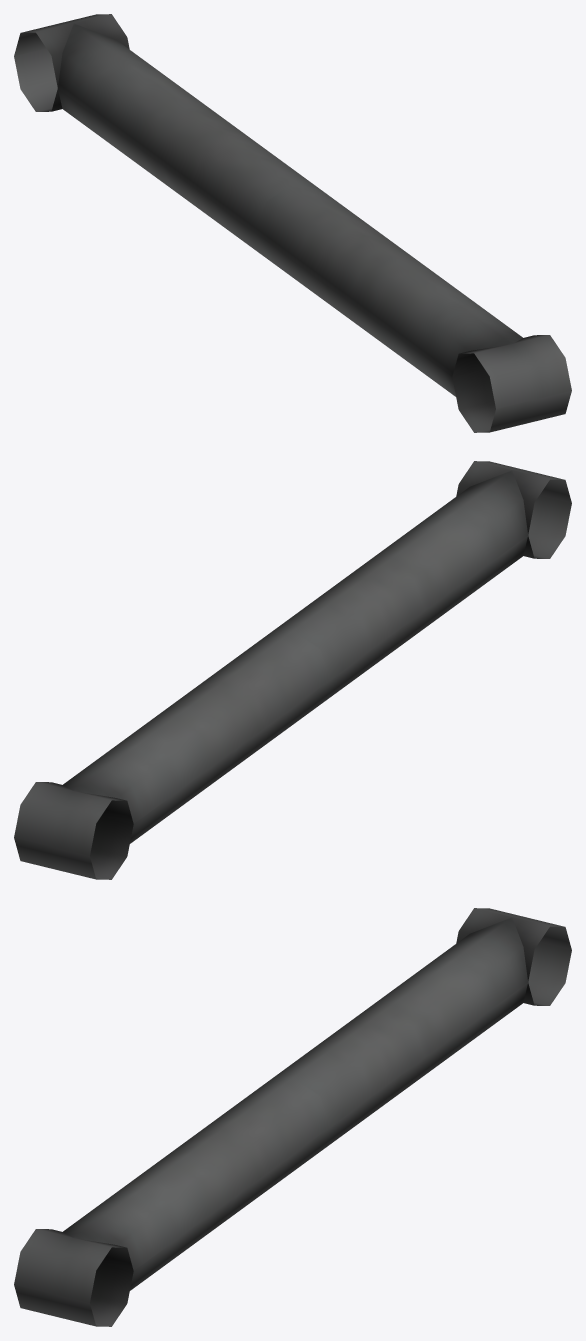
The model's file is lepus_dish_antenna_srf_1_arm.obj.
3 renders of one model, top to bottom at view 1: azimuth 30°, elevation 25°; view 2: azimuth 150°, elevation 25°; view 3: azimuth 330°, elevation 25°, orthographic.
Parts seen in each view (by area): view 1: lepus_dish_antenna_srf_1_arm; view 2: lepus_dish_antenna_srf_1_arm; view 3: lepus_dish_antenna_srf_1_arm.
Boxes of the visible parts, x1,y1,x2,y2 form: lepus_dish_antenna_srf_1_arm: [14, 14, 571, 432]; lepus_dish_antenna_srf_1_arm: [14, 461, 571, 879]; lepus_dish_antenna_srf_1_arm: [14, 908, 571, 1326].
Size of the model in its own units: 0.0375 by 0.0375 by 0.4125.
